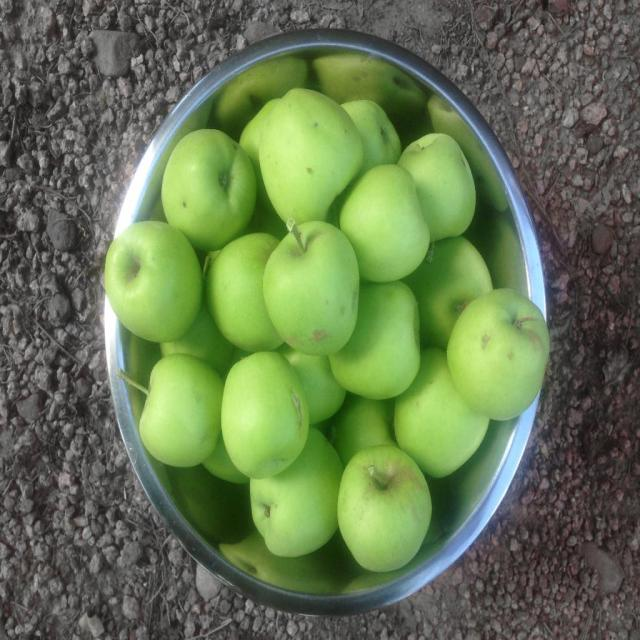Healty Apple: (102, 86, 548, 564), (335, 449, 438, 575)
